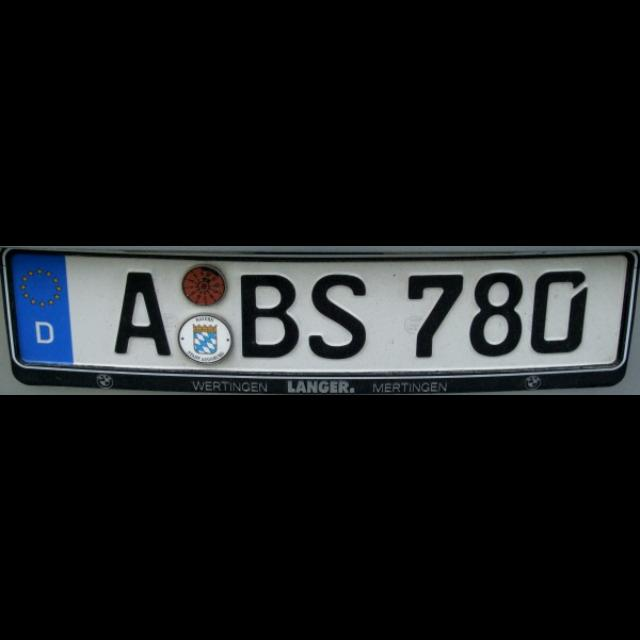d_license_plate: (9, 251, 636, 369)
